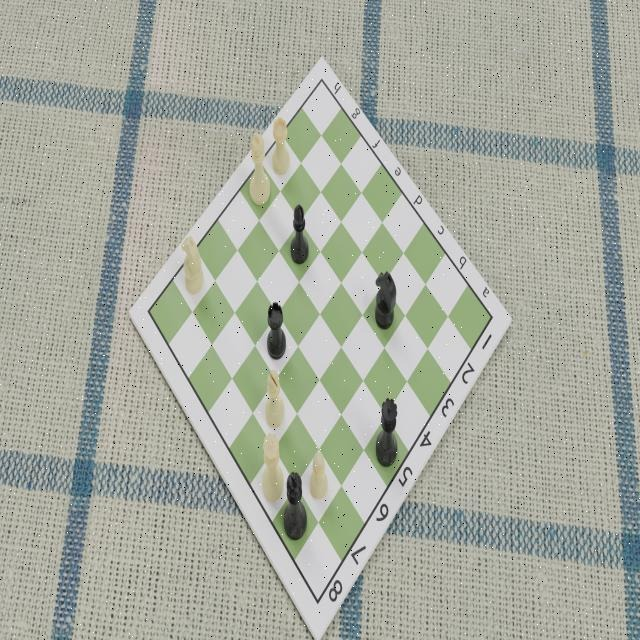black-bishop: (289, 204, 310, 266)
black-king: (281, 470, 307, 542)
black-knight: (373, 271, 397, 333)
black-queen: (375, 395, 400, 470)
black-rook: (265, 297, 287, 362)
white-bishop: (264, 368, 287, 432)
white-king: (245, 126, 270, 209)
white-knight: (181, 235, 206, 299)
white-pawn: (308, 453, 329, 502)
white-queen: (260, 429, 287, 509)
white-rook: (271, 116, 291, 179)
